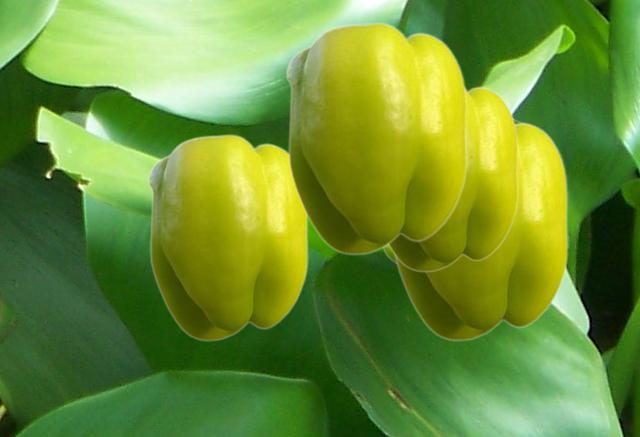bell_pepper: (285, 21, 466, 254), (393, 120, 567, 340), (147, 133, 307, 340), (388, 86, 517, 271)
